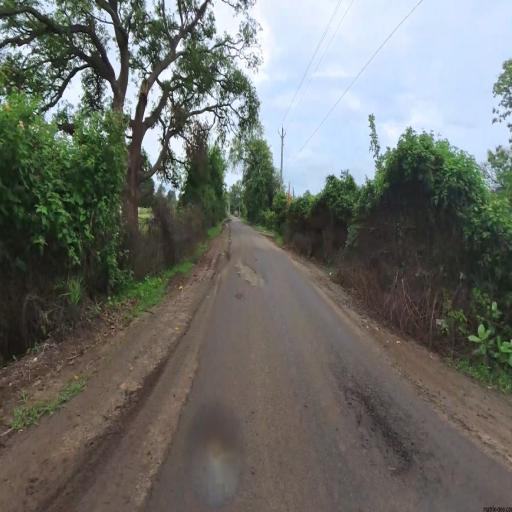pothole: (318, 344, 430, 499)
